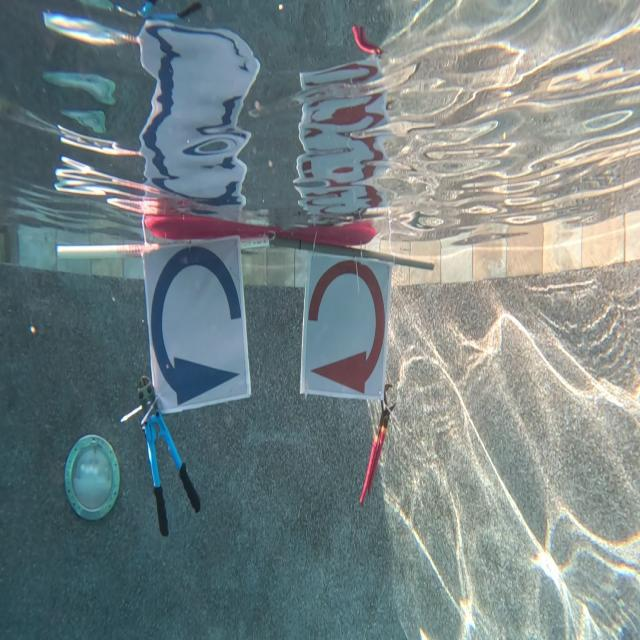blue_side: (144, 236, 252, 410)
red_side: (302, 240, 390, 403)
